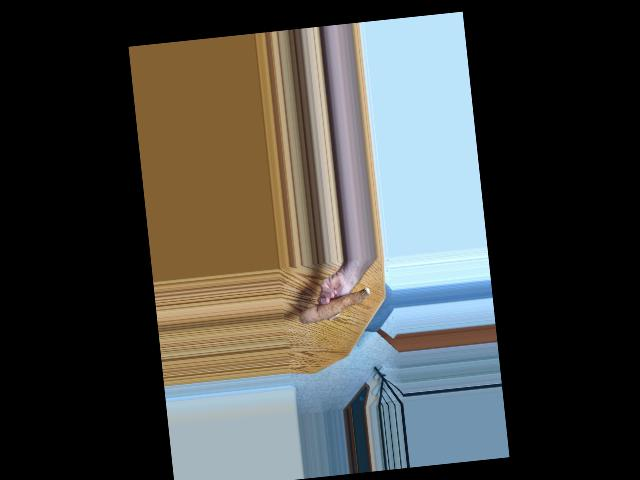sweet_potato: (299, 280, 372, 327)
